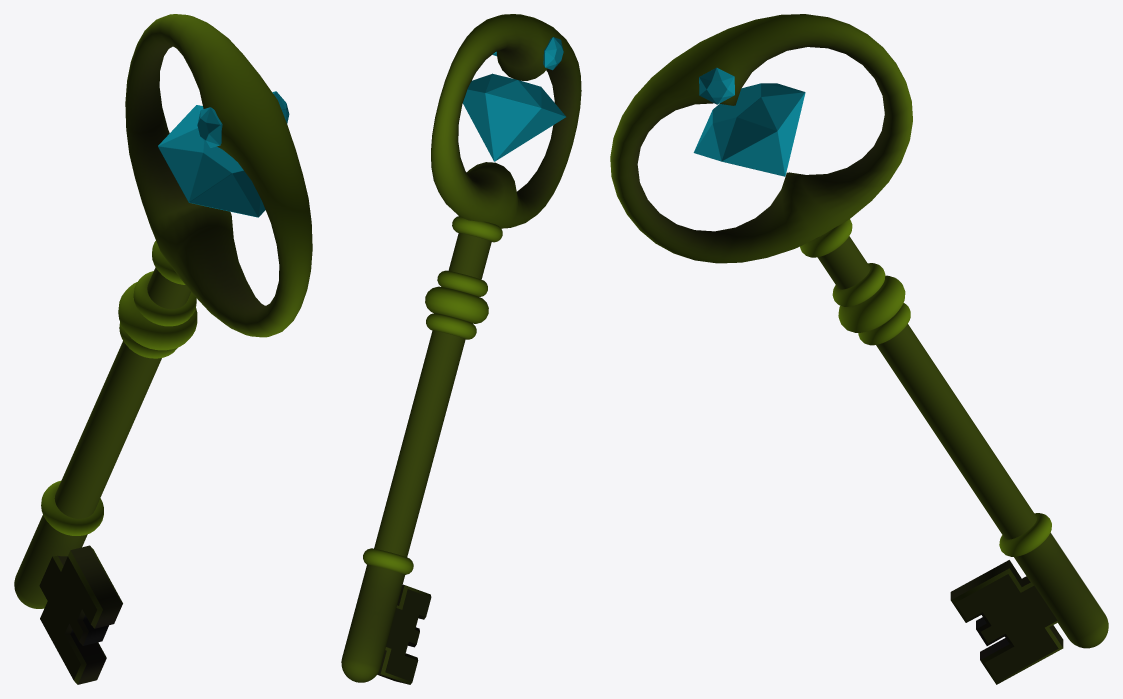
File: key (1).FBX
3 views of the same model, side by side, from view 1: azimuth 30°, elevation 25°; view 2: azimuth 150°, elevation 25°; view 3: azimuth 270°, elevation 25° (orthographic). The views are drawn at different scales.
Parts seen in each view (by area): view 1: key; view 2: key; view 3: key.
Boxes of the visible parts, x1,y1,x2,y2 form: key: (14, 14, 312, 684); key: (341, 14, 581, 684); key: (610, 14, 1108, 684).
Bounding box in the file's own units: 27.98 × 182 × 123.
